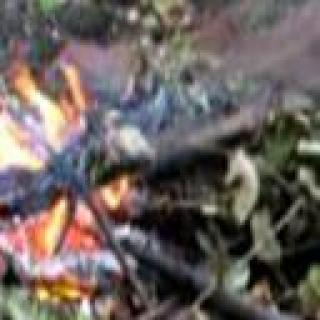fire: (0, 3, 93, 305)
